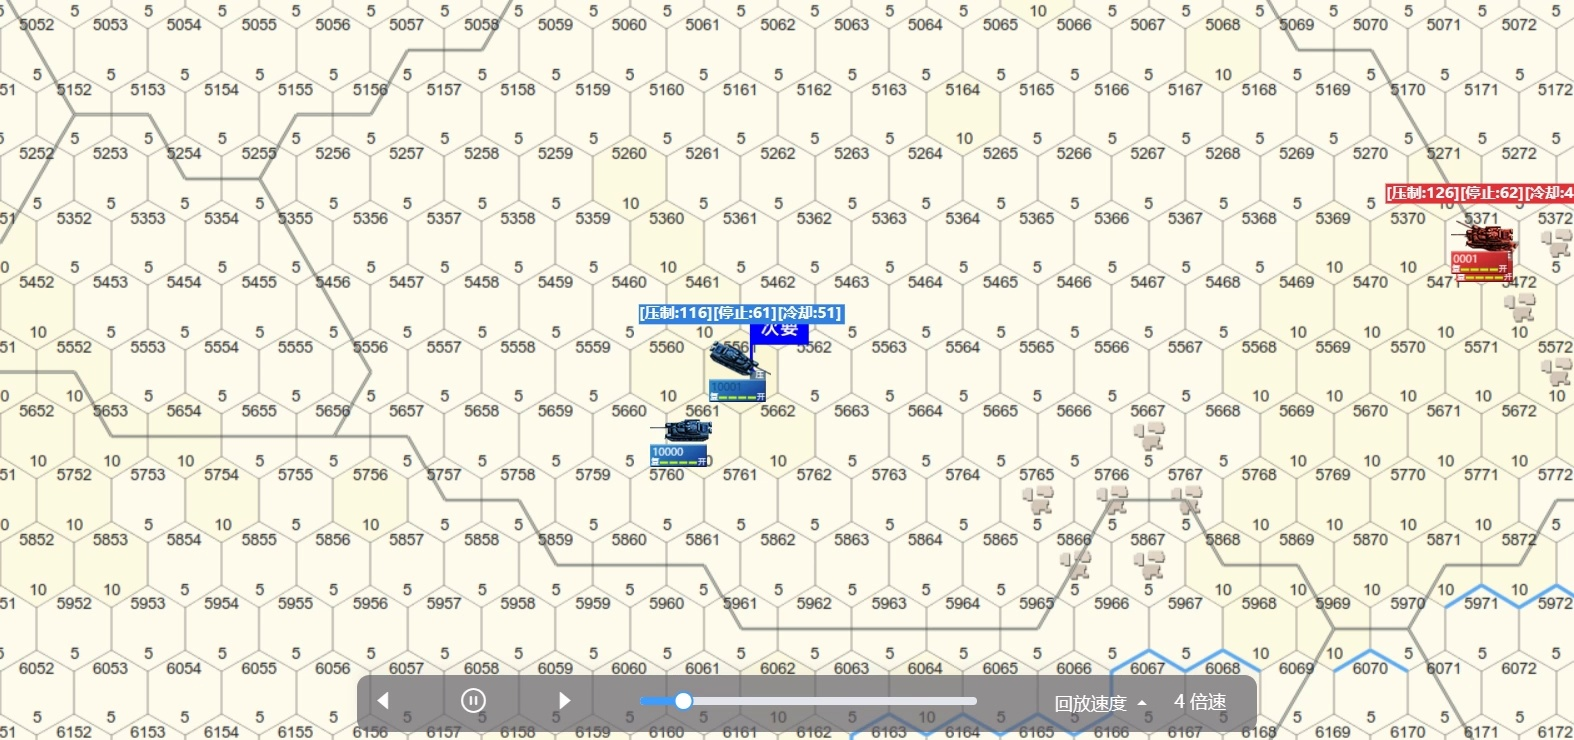blue_tank: (702, 336, 775, 408), (651, 421, 712, 469)
red_tank: (1456, 227, 1516, 285)
